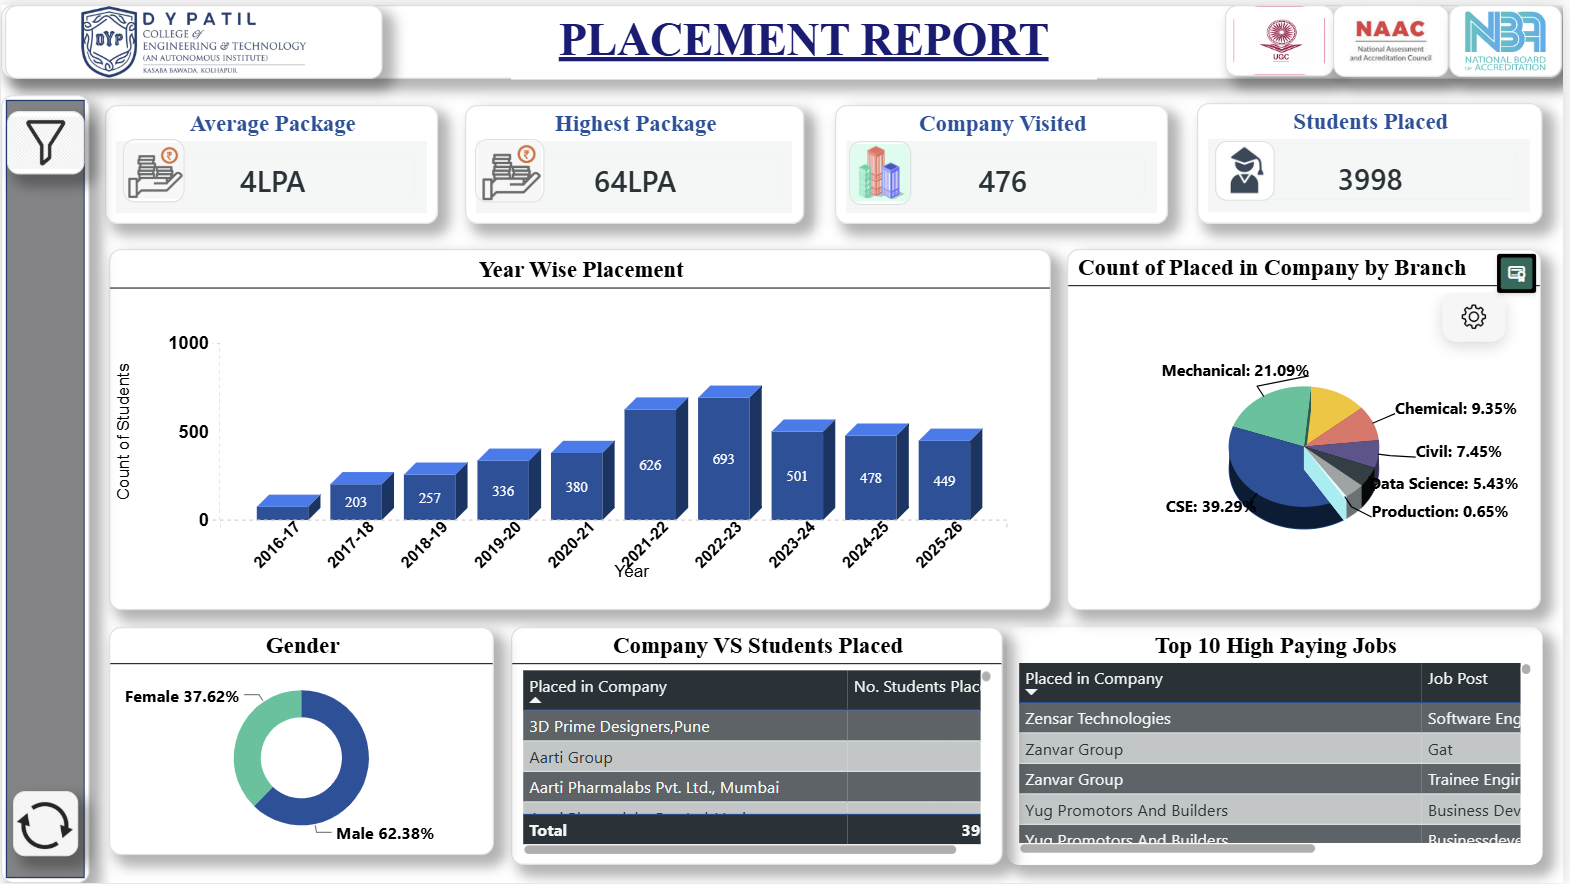

What the dashboard file says about the page in this screenshot:
{"tool":"powerbi","page":{"name":"Duplicate of Page 1","canvas":[1280,720],"ordinal":4},"visuals":[{"type":"tableEx","title":"Top 10 High Paying Jobs","fields":{"Values":["Sheet1.Placed in Company","Sheet1.Job Post","Max(Sheet1.Salary Offered)"]},"box":[824,510.3,438.8,195],"z":0},{"type":"barChart3D9F6B456A3E4B4A1B8D8F2D3A4B5C6D7E","title":"Year Wise Placement","fields":{"category":["Sheet1.Year"],"measure":["CountNonNull(Sheet1.INDEX)"]},"box":[87.8,199.9,772,295.8],"z":1000},{"type":"tableEx","title":"Company VS Students Placed","fields":{"Values":["Sheet1.Placed in Company","CountNonNull(Sheet1.INDEX)"]},"box":[417.7,510.3,403.1,195],"z":2000},{"type":"textbox","box":[0,0,1279.8,60.7],"z":3000},{"type":"image","box":[3.6,0,309.5,60.7],"z":4000},{"type":"image","box":[1003.6,0,89.3,58.3],"z":5000},{"type":"image","box":[1092.5,0,95,58.8],"z":6000},{"type":"image","box":[1187.5,0,92.5,58.8],"z":7000},{"type":"cardVisual","title":"Average Package","fields":{"Data":["Avg(Sheet1.Salary Offered)"]},"box":[84.5,81.3,273,97.5],"z":8000},{"type":"image","box":[100.8,110.5,50.4,52],"z":9000},{"type":"cardVisual","title":"Highest Package","fields":{"Data":["Sheet1.Highest Package"]},"box":[380.3,81.3,277.9,97.5],"z":10000},{"type":"image","box":[388.4,110.5,56.9,52],"z":11000},{"type":"cardVisual","title":"Company Visited","fields":{"Data":["Count(Sheet1.Placed in Company)"]},"box":[684.2,81.3,273,97.5],"z":12000},{"type":"image","box":[695.2,110.7,51.2,52.4],"z":13000},{"type":"cardVisual","title":"Students Placed","fields":{"Data":["CountNonNull(Sheet1.Name)"]},"box":[980,79.6,282.8,99.1],"z":14000},{"type":"image","box":[994.7,112.1,48.8,48.8],"z":15000},{"type":"textbox","box":[417.9,2.4,479.8,59.5],"z":16000},{"type":"pieChartNewAA90D11FDE2D45BBADC4383C1313084F","fields":{"category":["Sheet1.Branch"],"measure":["CountNonNull(Sheet1.Placed in Company)"]},"box":[874.4,199.9,388.4,295.8],"z":17000},{"type":"shape","box":[0,74.5,72.7,645.9],"z":18000},{"type":"image","box":[4.9,86.1,63.4,52],"z":19000},{"type":"donutChart","title":"Gender ","fields":{"Category":["Sheet1.Gender"],"Y":["CountNonNull(Sheet1.INDEX)"]},"box":[87.8,510.3,315.3,186.9],"z":20000},{"type":"image","box":[9.8,643.6,53.6,53.6],"z":20500}]}

Visuals, with their boxes in screenshot pixels (x1, y1, x2, y2), scaled from the page's 1280x720 canvas onto the 1570x884 screenshot:
"Top 10 High Paying Jobs" tableEx: (x1=1011, y1=627, x2=1549, y2=866)
"Year Wise Placement" barChart3D9F6B456A3E4B4A1B8D8F2D3A4B5C6D7E: (x1=108, y1=245, x2=1055, y2=609)
"Company VS Students Placed" tableEx: (x1=512, y1=627, x2=1007, y2=866)
textbox: (x1=0, y1=0, x2=1569, y2=75)
image: (x1=4, y1=0, x2=384, y2=75)
image: (x1=1231, y1=0, x2=1341, y2=72)
image: (x1=1340, y1=0, x2=1457, y2=72)
image: (x1=1457, y1=0, x2=1569, y2=72)
"Average Package" cardVisual: (x1=104, y1=100, x2=438, y2=220)
image: (x1=124, y1=136, x2=185, y2=200)
"Highest Package" cardVisual: (x1=466, y1=100, x2=807, y2=220)
image: (x1=476, y1=136, x2=546, y2=200)
"Company Visited" cardVisual: (x1=839, y1=100, x2=1174, y2=220)
image: (x1=853, y1=136, x2=916, y2=200)
"Students Placed" cardVisual: (x1=1202, y1=98, x2=1549, y2=219)
image: (x1=1220, y1=138, x2=1280, y2=198)
textbox: (x1=513, y1=3, x2=1101, y2=76)
pieChartNewAA90D11FDE2D45BBADC4383C1313084F - Sheet1.Branch x CountNonNull(Sheet1.Placed in Company): (x1=1073, y1=245, x2=1549, y2=609)
shape: (x1=0, y1=91, x2=89, y2=883)
image: (x1=6, y1=106, x2=84, y2=170)
"Gender " donutChart: (x1=108, y1=627, x2=494, y2=856)
image: (x1=12, y1=790, x2=78, y2=856)
